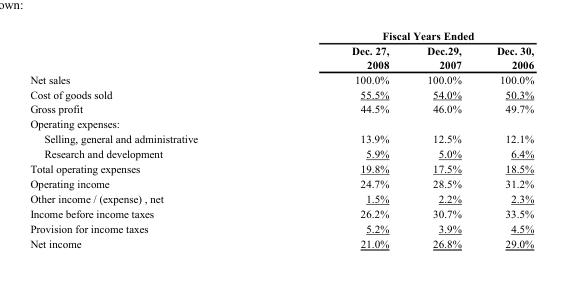table: (29, 29, 533, 249)
table column: (29, 29, 274, 249), (274, 29, 407, 249), (407, 29, 478, 249), (478, 29, 533, 249)
table column header: (29, 29, 533, 71)
table projected row header: (29, 116, 533, 131)
table row: (29, 42, 533, 71), (29, 71, 533, 86), (29, 86, 533, 101), (29, 101, 533, 116), (29, 116, 533, 131), (29, 131, 533, 146), (29, 146, 533, 161), (29, 161, 533, 176), (29, 176, 533, 191), (29, 191, 533, 206), (29, 206, 533, 221), (29, 221, 533, 235), (29, 235, 533, 249), (29, 29, 533, 42)
table spanning cell: (274, 29, 533, 42)
